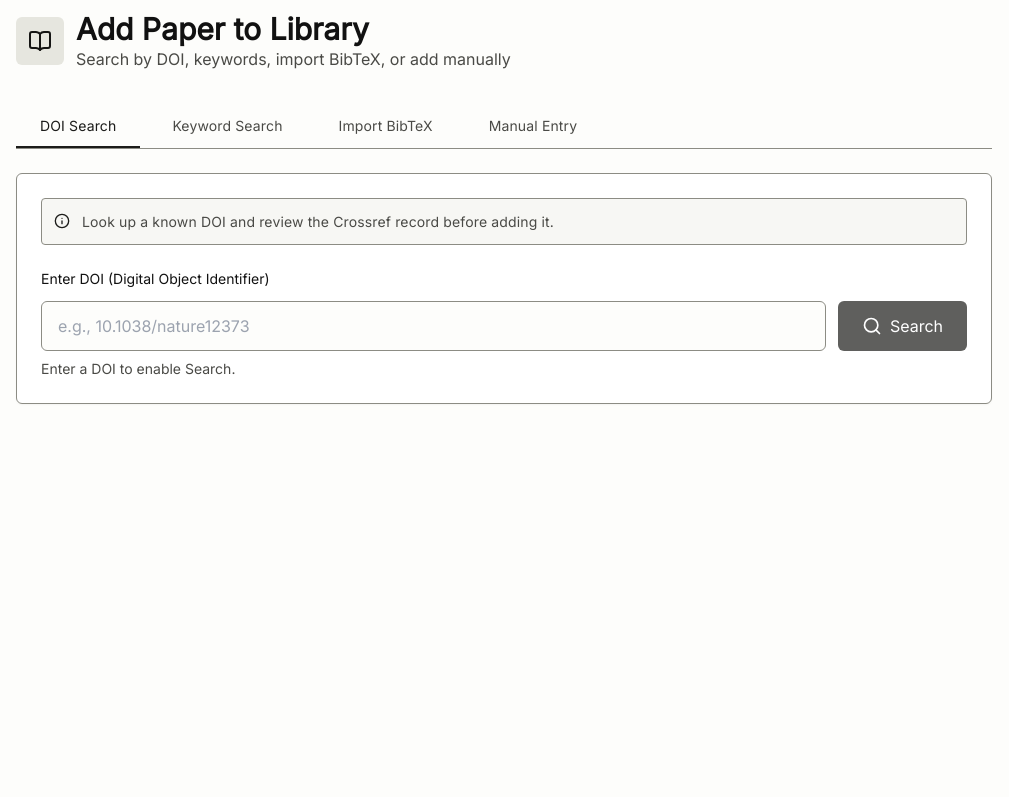
Test: AddPaperView Security › should prevent adding a paper with a javascript: URL in manual entry
Click the tab "Manual Entry". click: [533, 126]
box: [465,103,601,148]
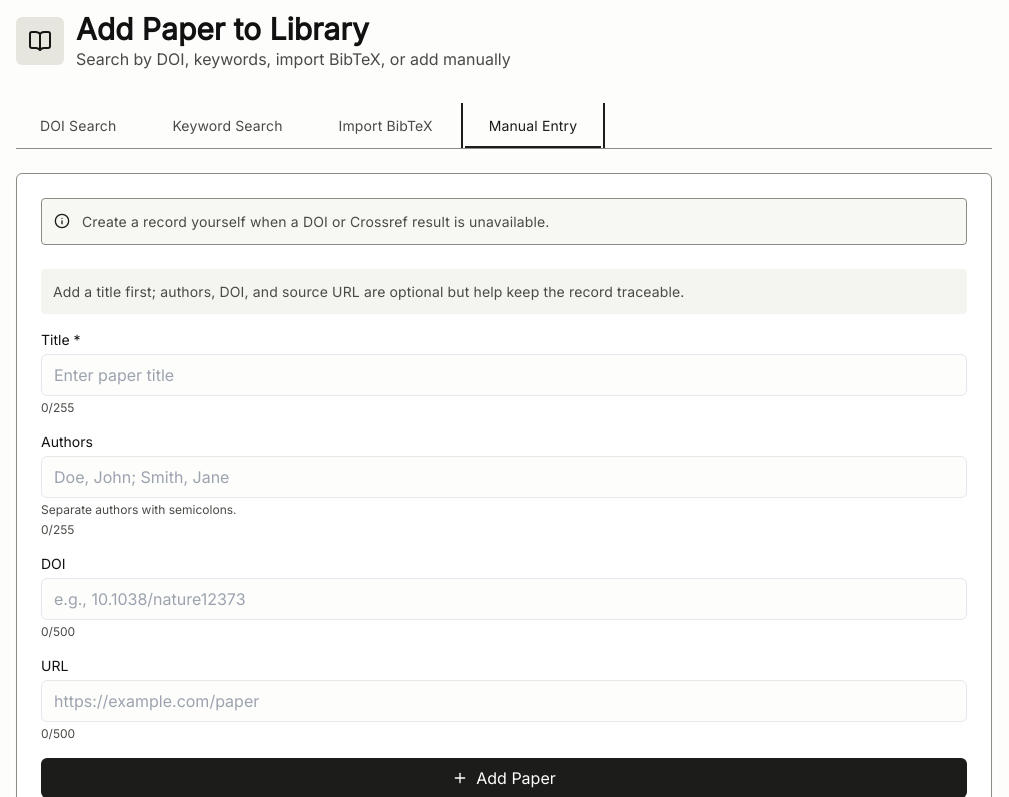
Type "Malicious Paper" into the field with placeholder "Enter paper title". click: [504, 375]
box: [41,354,967,396]
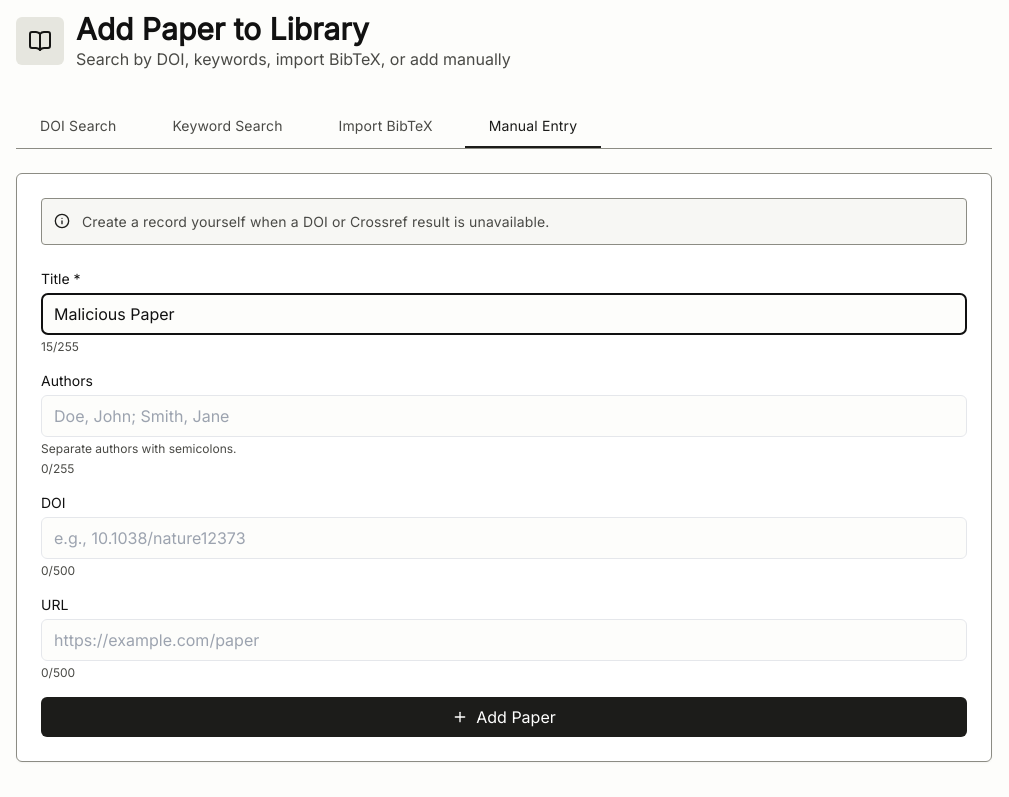
Type "javascript:alert(1)" into the field with placeholder "https://example.com/paper". click: [504, 640]
box: [41,619,967,661]
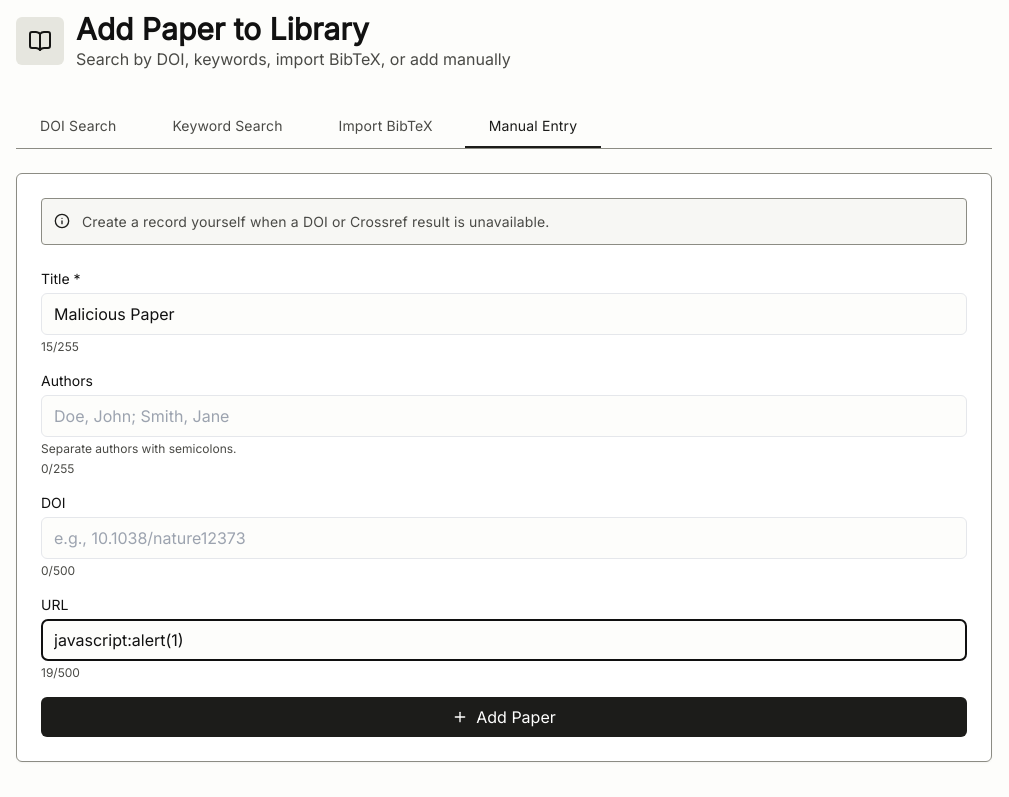
Click the button "Add Paper". click: [504, 717]
box: [41,697,967,737]
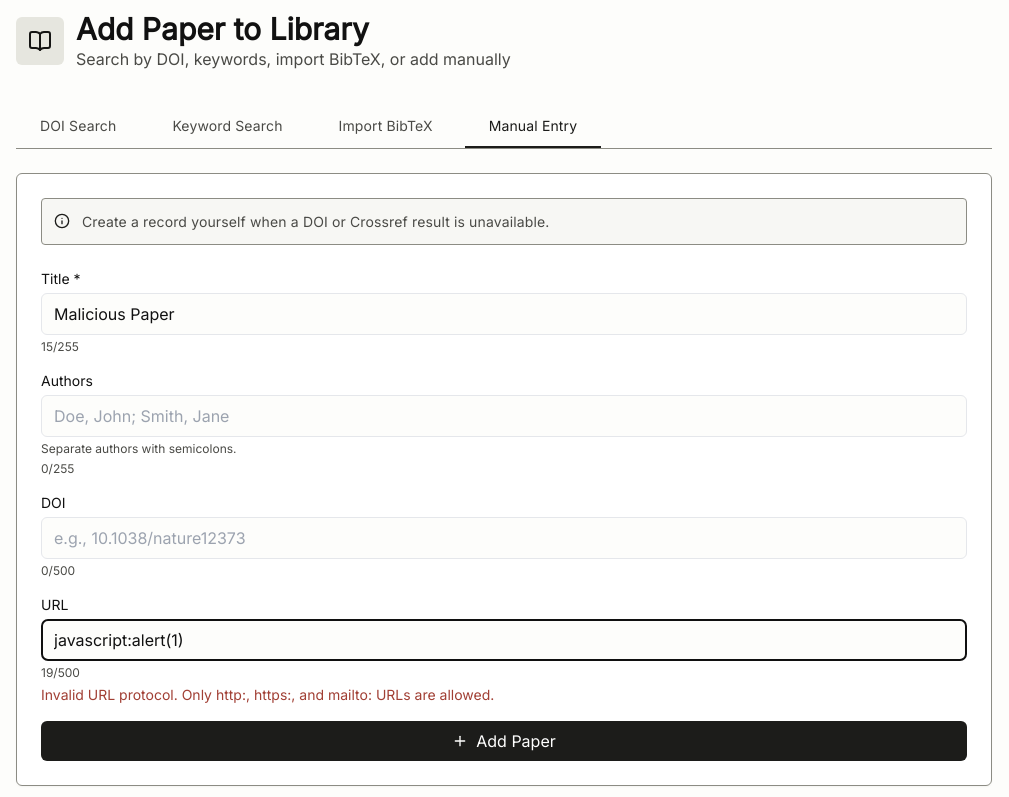
Result: the text "Invalid URL protocol. Only http:, https:, and mailto: URLs are allowed." is shown at [41,686,494,703]
